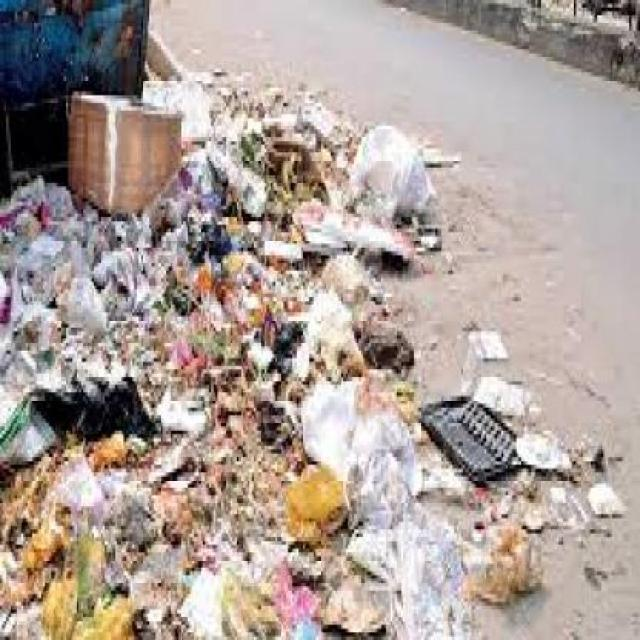garbage: (0, 129, 422, 636), (354, 320, 627, 621), (0, 0, 318, 144)
